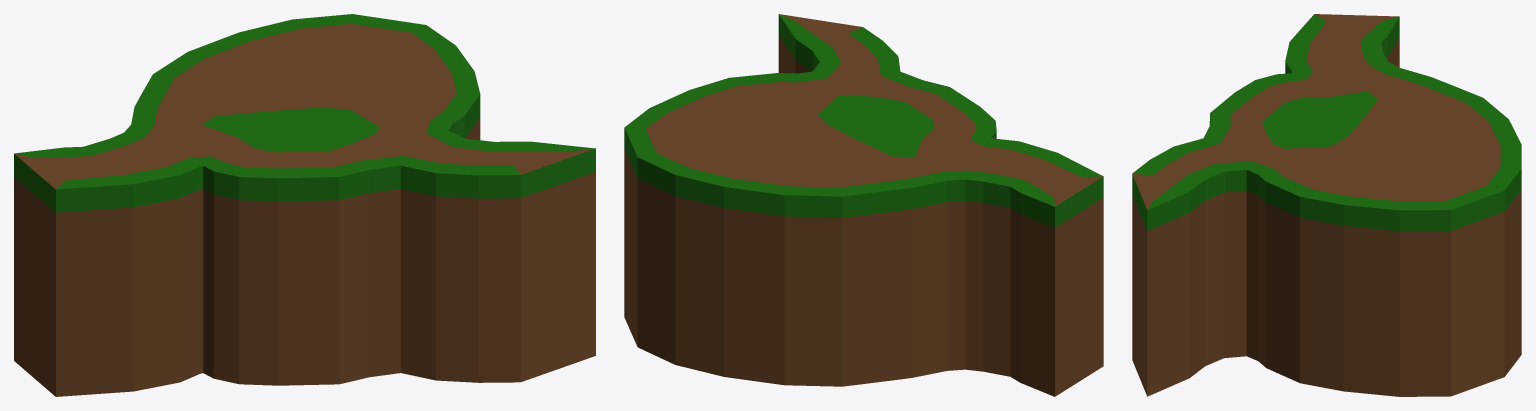
File: terrain2.fbx
3 views of the same model, side by side, from view 1: azimuth 30°, elevation 25°; view 2: azimuth 150°, elevation 25°; view 3: azimuth 270°, elevation 25° (orthographic). The views are drawn at different scales.
Parts seen in each view (by area): view 1: Cube; view 2: Cube; view 3: Cube.
Boxes of the visible parts, x1,y1,x2,y2 form: Cube: (14, 14, 595, 396); Cube: (624, 14, 1103, 396); Cube: (1132, 14, 1521, 396).
Bounding box in the file's own units: 1060 × 469 × 888.
